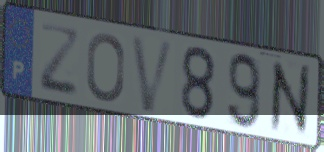8: (179, 44, 218, 122)
9: (226, 51, 263, 132)
N: (269, 58, 312, 137)
O: (84, 31, 127, 104)
V: (129, 33, 178, 116)
Z: (38, 19, 81, 99)
